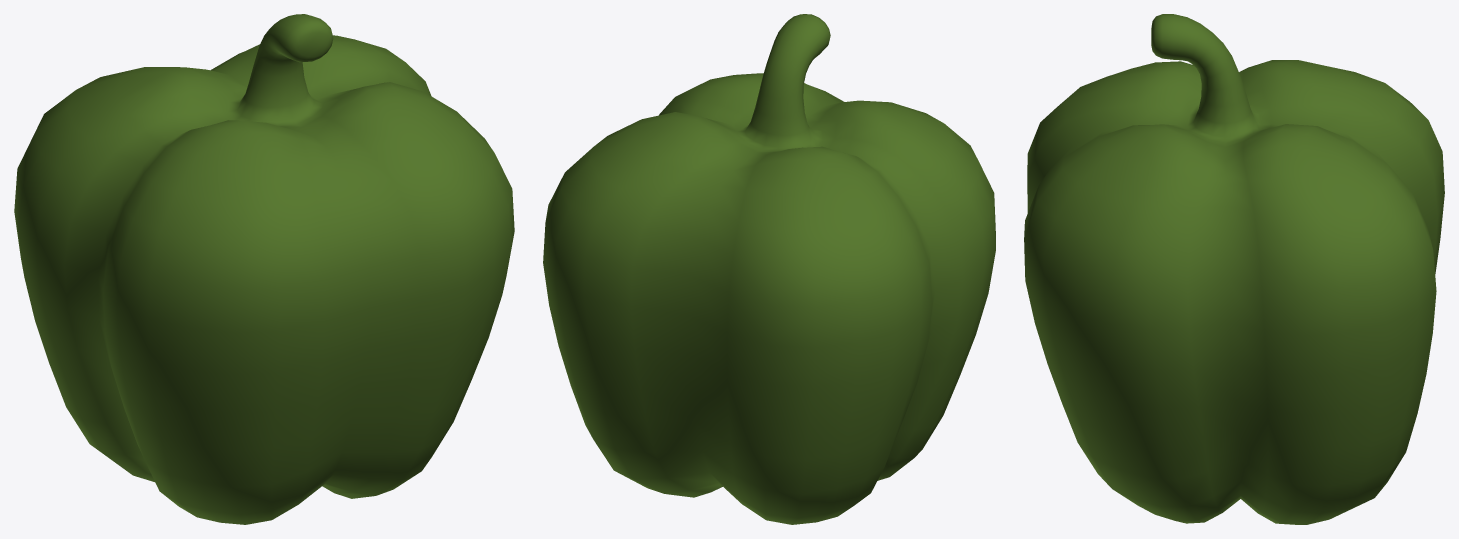
Rendered from Grenn Pepper.FBX.
3 renders of one model, left to right at view 1: azimuth 30°, elevation 25°; view 2: azimuth 150°, elevation 25°; view 3: azimuth 270°, elevation 25°, orthographic. The views are drawn at different scales.
Visible parts, largest first — view 1: Sphere002; view 2: Sphere002; view 3: Sphere002.
Part boxes in pixels (left/top/right/bottom): Sphere002: left=14, top=14, right=514, bottom=524; Sphere002: left=543, top=14, right=995, bottom=524; Sphere002: left=1024, top=14, right=1444, bottom=524.
Size of the model in its own units: 29.12 by 34.2 by 27.63.
